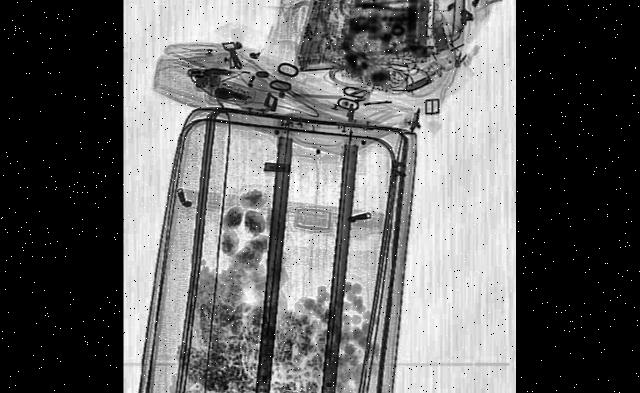Pliers: (361, 0, 415, 13)
